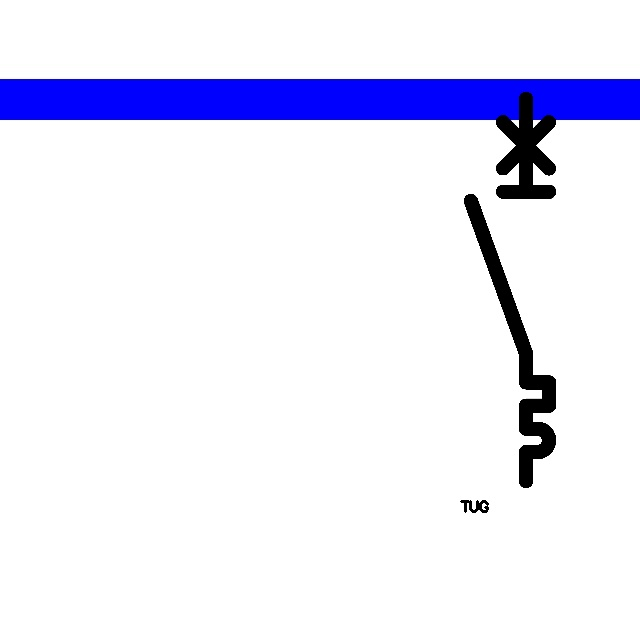interruptor_termomagnetico: (461, 89, 559, 491)
